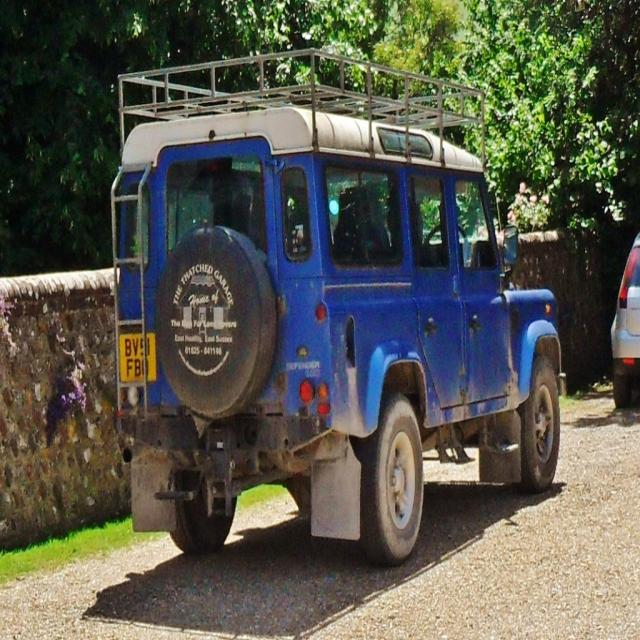car: (97, 99, 560, 572)
